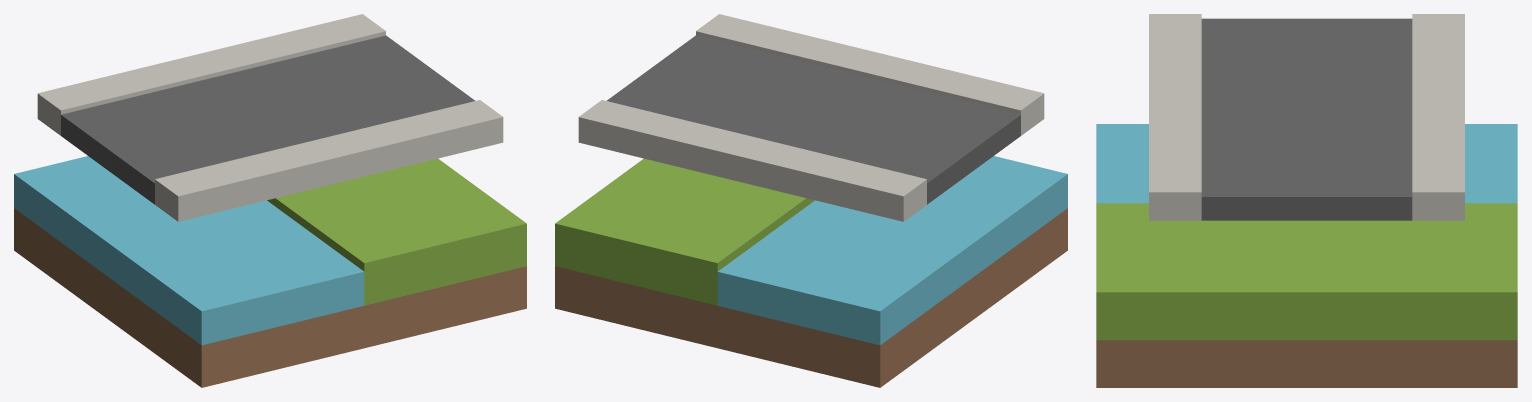
Rendered from road-bridge-water.obj.
3 renders of one model, left to right at view 1: azimuth 30°, elevation 25°; view 2: azimuth 150°, elevation 25°; view 3: azimuth 270°, elevation 25°, orthographic. The views are drawn at different scales.
Visible parts, largest first — view 1: road-bridge-water_Cube.024; view 2: road-bridge-water_Cube.024; view 3: road-bridge-water_Cube.024.
Part boxes in pixels (x1,y1,x2,y2): road-bridge-water_Cube.024: (14,14,526,387); road-bridge-water_Cube.024: (555,14,1067,387); road-bridge-water_Cube.024: (1096,14,1517,387).
Size of the model in its own units: 8 by 4.1 by 8.
Materials: 1 (1 with a texture image).
